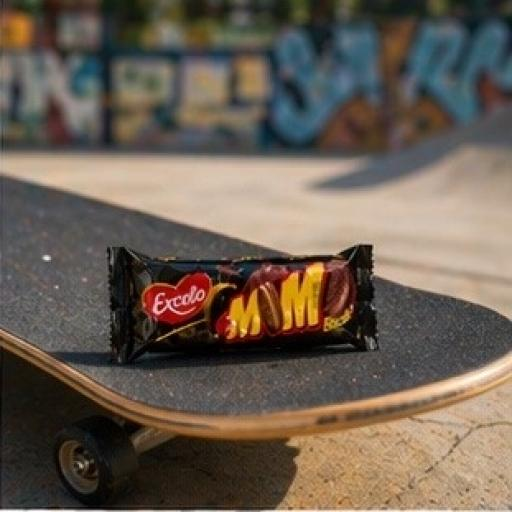MOMO: (89, 202, 407, 401)
